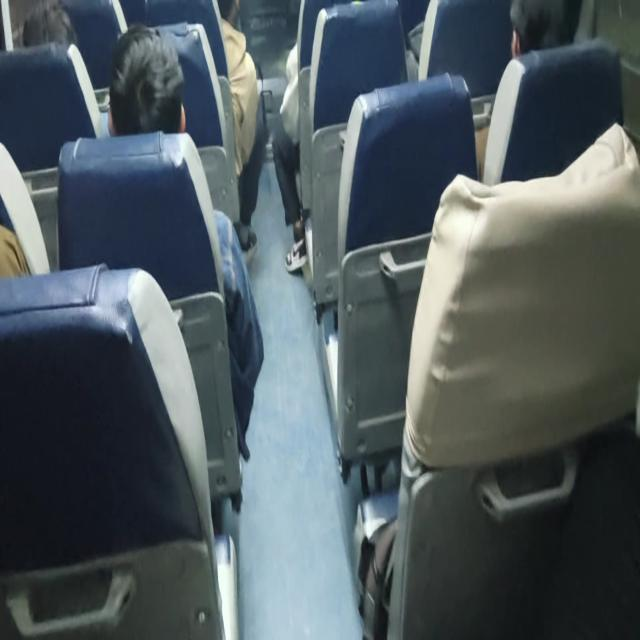person: (106, 23, 264, 460), (272, 0, 362, 274), (472, 0, 582, 179), (215, 0, 265, 265), (106, 23, 186, 136)
